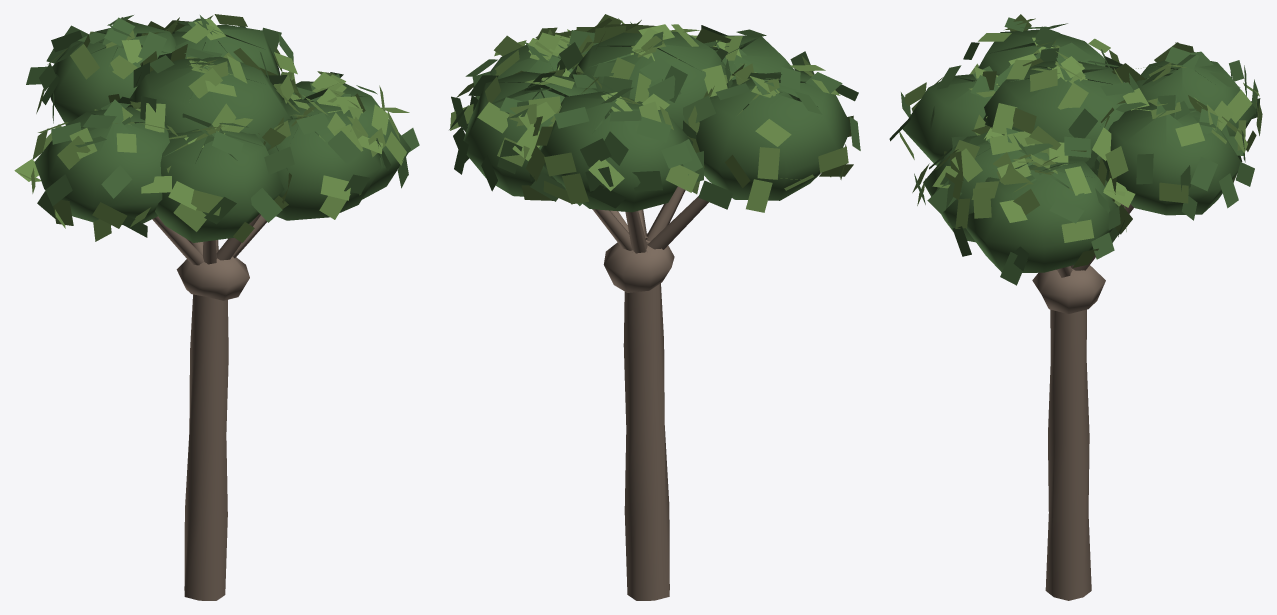
The model's file is pollarded-tree.glb.
The picture shows the model from 3 angles, left to right: view 1: azimuth 30°, elevation 25°; view 2: azimuth 150°, elevation 25°; view 3: azimuth 270°, elevation 25°; orthographic projection. The views are drawn at different scales.
Visible parts, largest first — view 1: pollarded-tree-pollard, pollarded-tree-pollard-light, pollarded-tree-pollard-bark; view 2: pollarded-tree-pollard, pollarded-tree-pollard-bark, pollarded-tree-pollard-light; view 3: pollarded-tree-pollard, pollarded-tree-pollard-light, pollarded-tree-pollard-bark.
Part boxes in pixels (x1,y1,x2,y2): pollarded-tree-pollard: [26, 15, 419, 242]; pollarded-tree-pollard-light: [14, 14, 409, 242]; pollarded-tree-pollard-bark: [152, 214, 266, 600]; pollarded-tree-pollard: [449, 22, 860, 212]; pollarded-tree-pollard-bark: [592, 186, 708, 600]; pollarded-tree-pollard-light: [450, 14, 853, 212]; pollarded-tree-pollard: [889, 17, 1260, 285]; pollarded-tree-pollard-light: [899, 14, 1262, 267]; pollarded-tree-pollard-bark: [1032, 203, 1134, 600].
Bounding box in the file's own units: 3.11 × 4.27 × 2.72.
